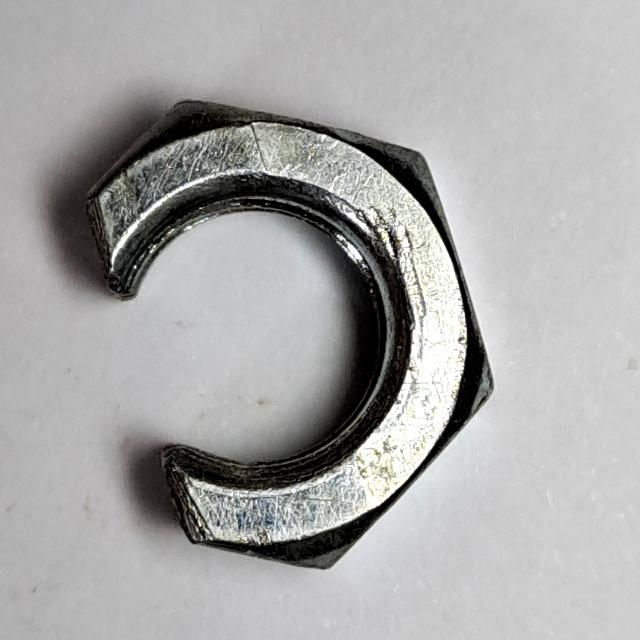Fracture: (75, 83, 507, 589)
